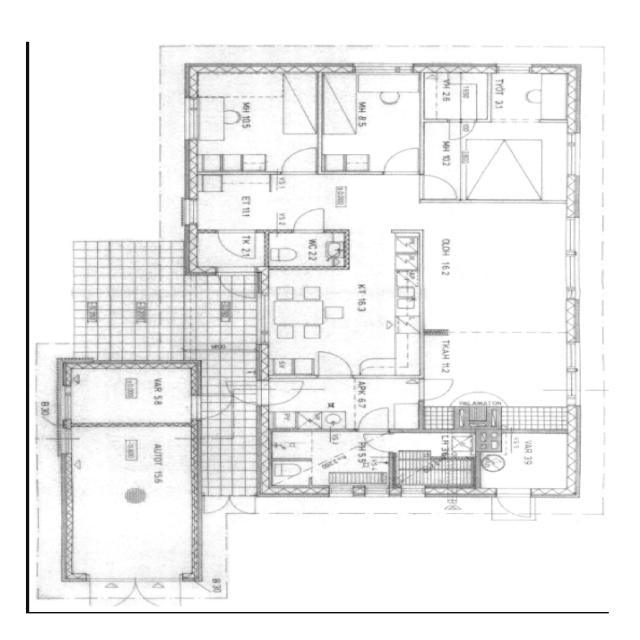door: (132, 579, 182, 610), (214, 229, 258, 263), (492, 488, 536, 520), (313, 349, 355, 381), (279, 144, 319, 177), (380, 145, 422, 176), (416, 172, 458, 203), (354, 405, 392, 435), (192, 394, 231, 422), (289, 206, 327, 234), (266, 379, 304, 407), (417, 376, 455, 403), (361, 431, 394, 454), (226, 493, 259, 515), (199, 493, 232, 515), (53, 429, 77, 458), (449, 119, 477, 141)
window: (436, 328, 564, 339), (559, 250, 583, 300), (561, 132, 583, 180), (182, 96, 202, 144), (560, 213, 582, 256), (55, 381, 76, 424), (352, 63, 412, 76), (562, 338, 582, 374), (180, 196, 200, 227), (494, 63, 534, 74)
zone: (66, 422, 198, 580), (424, 204, 573, 336), (190, 69, 319, 172), (431, 333, 575, 419), (425, 122, 576, 203), (320, 70, 423, 174), (66, 363, 198, 427), (271, 429, 397, 494), (476, 431, 574, 495), (194, 173, 278, 231), (393, 432, 474, 489), (486, 70, 573, 123), (187, 228, 270, 272), (421, 70, 488, 121), (265, 230, 348, 270)
